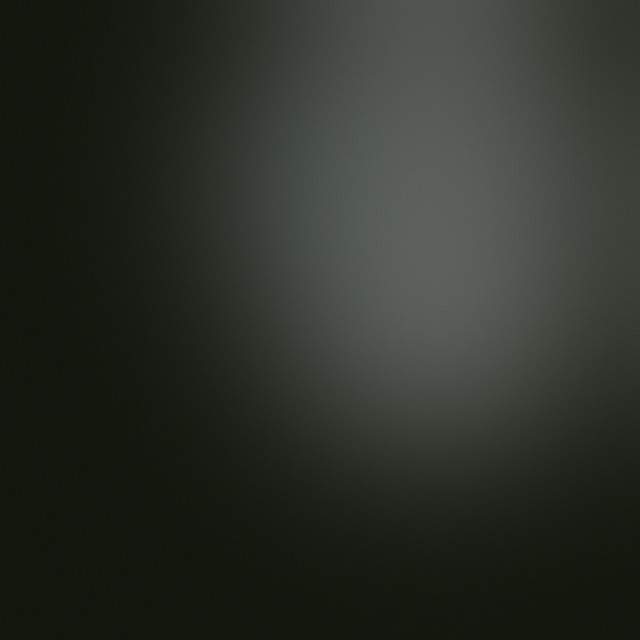smoke: (178, 57, 540, 419)
